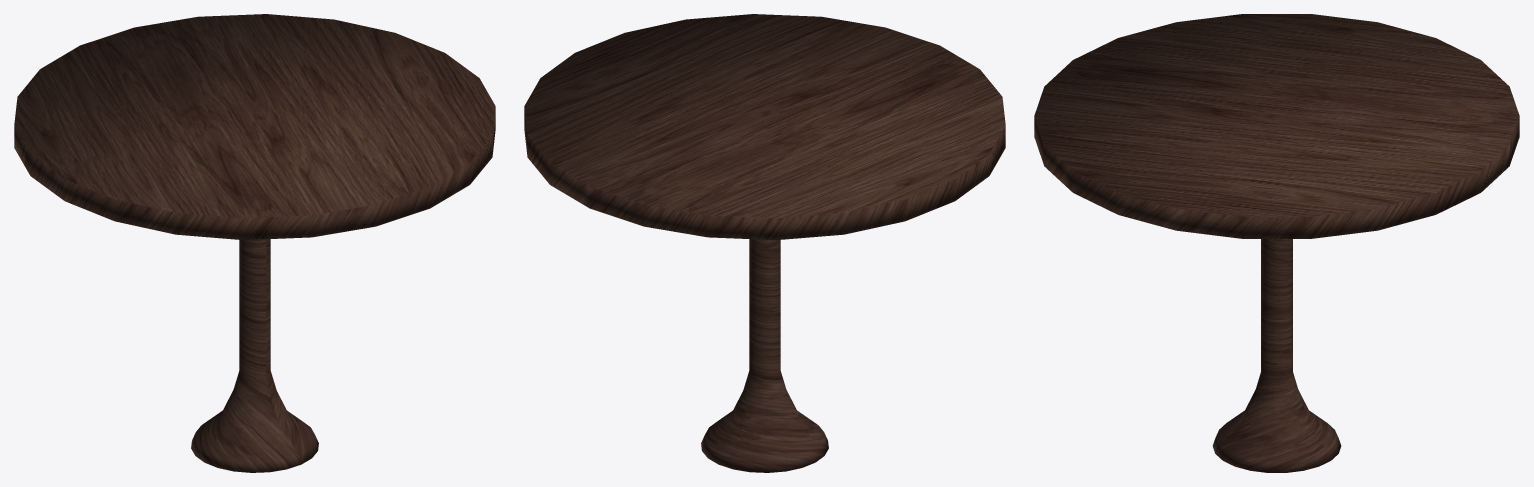
File: table_proto.fbx
The picture shows the model from 3 angles, left to right: view 1: azimuth 30°, elevation 25°; view 2: azimuth 150°, elevation 25°; view 3: azimuth 270°, elevation 25°; orthographic projection.
Parts seen in each view (by area): view 1: table; view 2: table; view 3: table.
Boxes of the visible parts, box(x1,y1,x2,y2) form: table: box(14, 14, 495, 472); table: box(524, 14, 1005, 472); table: box(1034, 14, 1519, 472).
Size of the model in its own units: 105 by 79.72 by 106.
